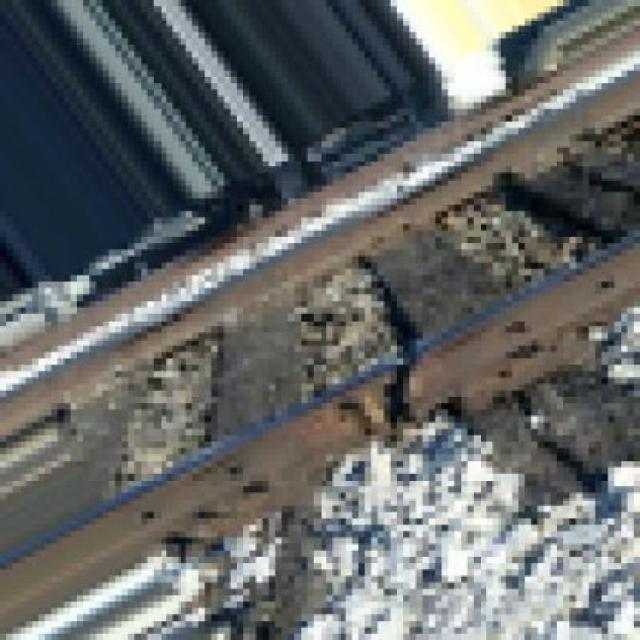defective: (84, 219, 640, 571)
